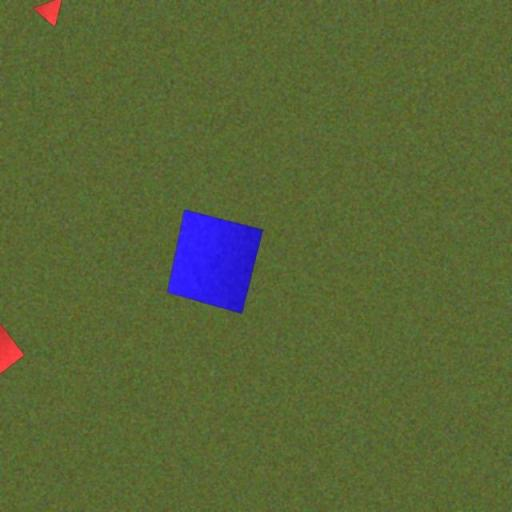BLUE_SQUARE: (166, 209, 264, 314)
RED_SQUARE: (0, 322, 26, 384)
